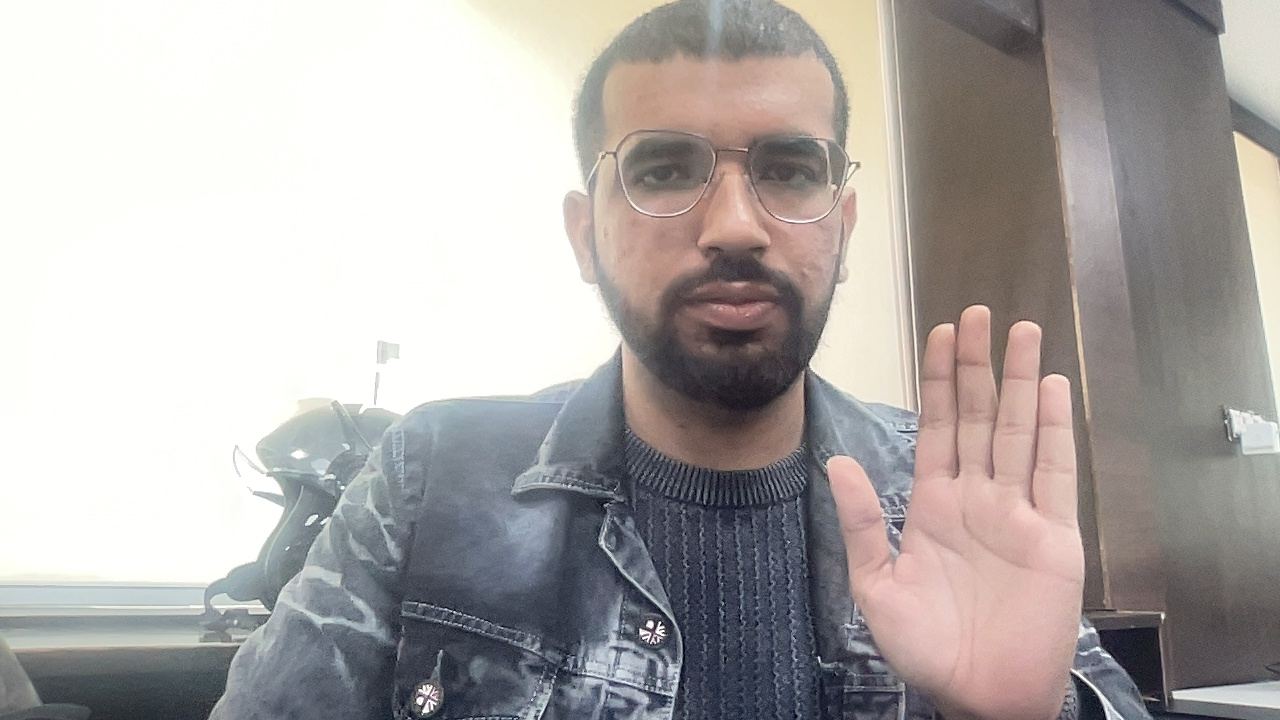Hello: (786, 278, 1150, 720)
